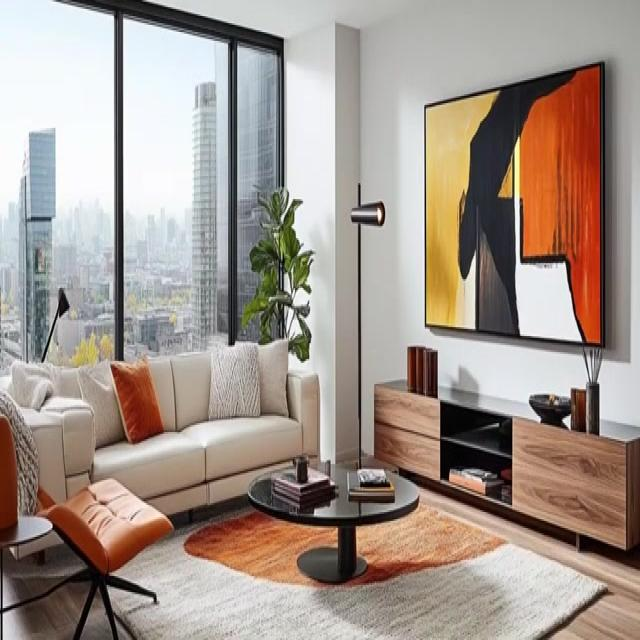obstacle: (0, 338, 320, 524), (373, 377, 639, 553), (247, 457, 419, 583)
